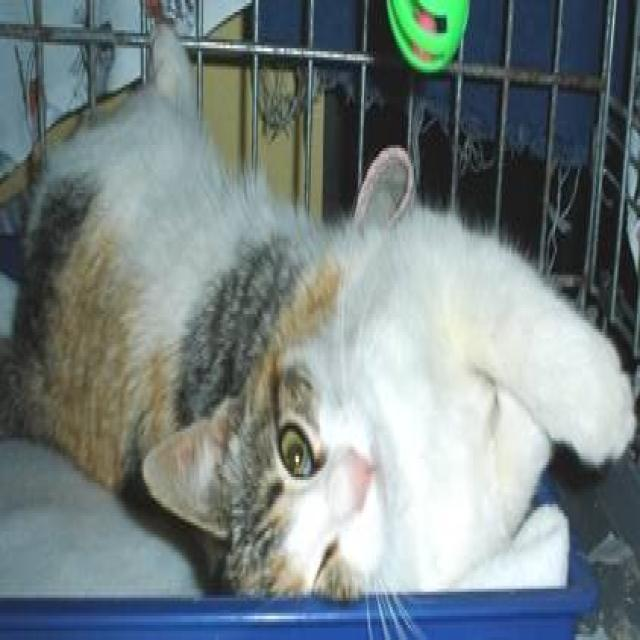cat: (0, 12, 637, 637)
